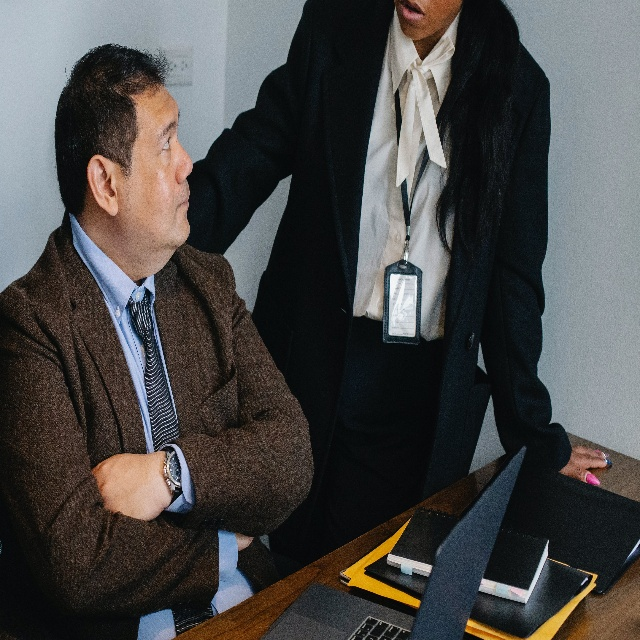Sin_guantes: (91, 447, 177, 523), (558, 441, 613, 486)
